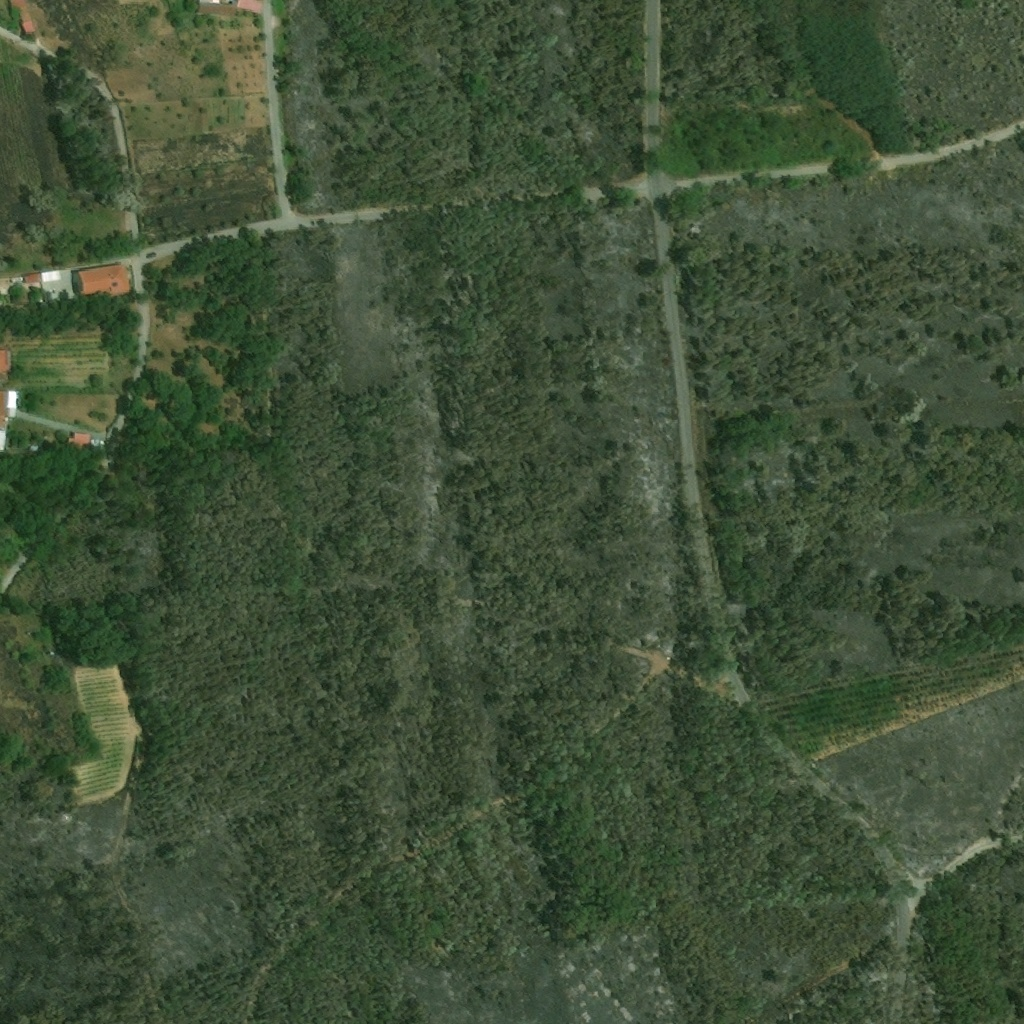0 no-damage: (76, 264, 131, 299), (0, 390, 19, 452), (11, 0, 38, 35), (0, 349, 10, 381), (69, 433, 89, 444), (23, 272, 41, 284), (43, 271, 61, 282)
4 un-classified: (197, 0, 261, 17)
